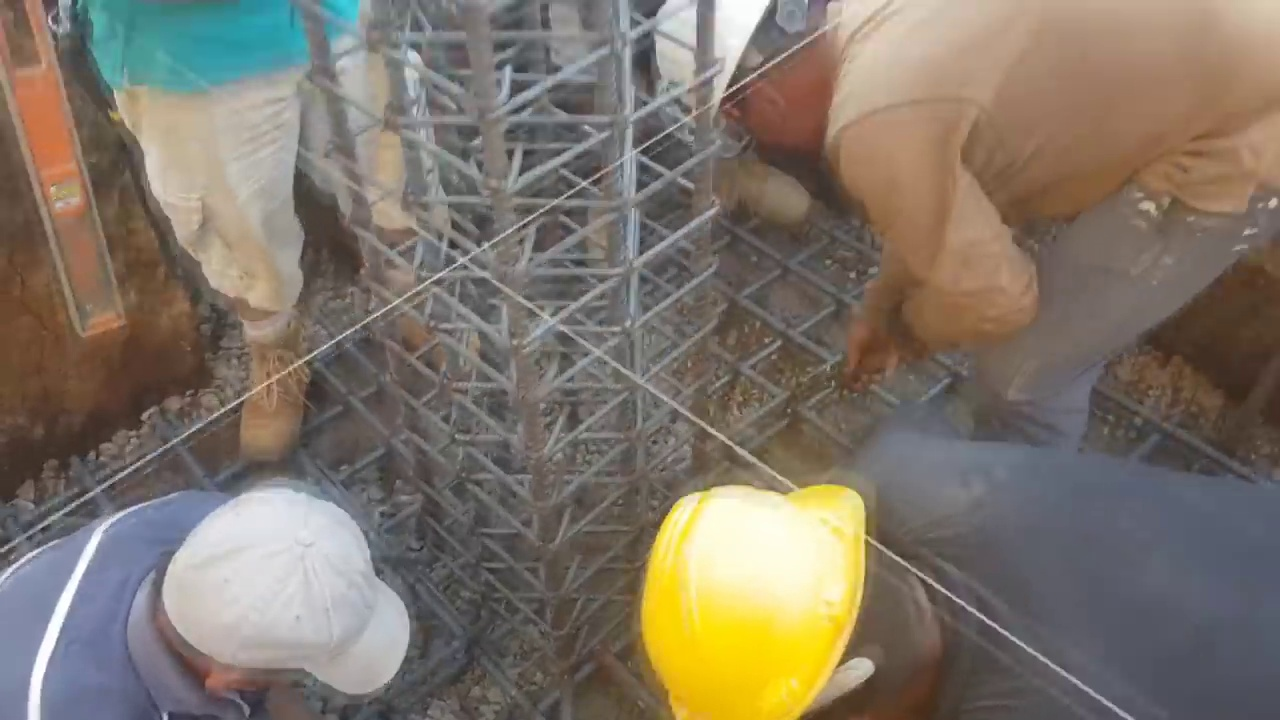helmet: (632, 495, 878, 720)
helmet-off: (155, 511, 418, 699)
helmet-on: (625, 490, 956, 714), (644, 3, 850, 168), (647, 0, 769, 133)
person: (645, 0, 1254, 664), (86, 0, 474, 465), (621, 452, 1276, 712), (2, 473, 417, 717), (518, 0, 816, 252)
